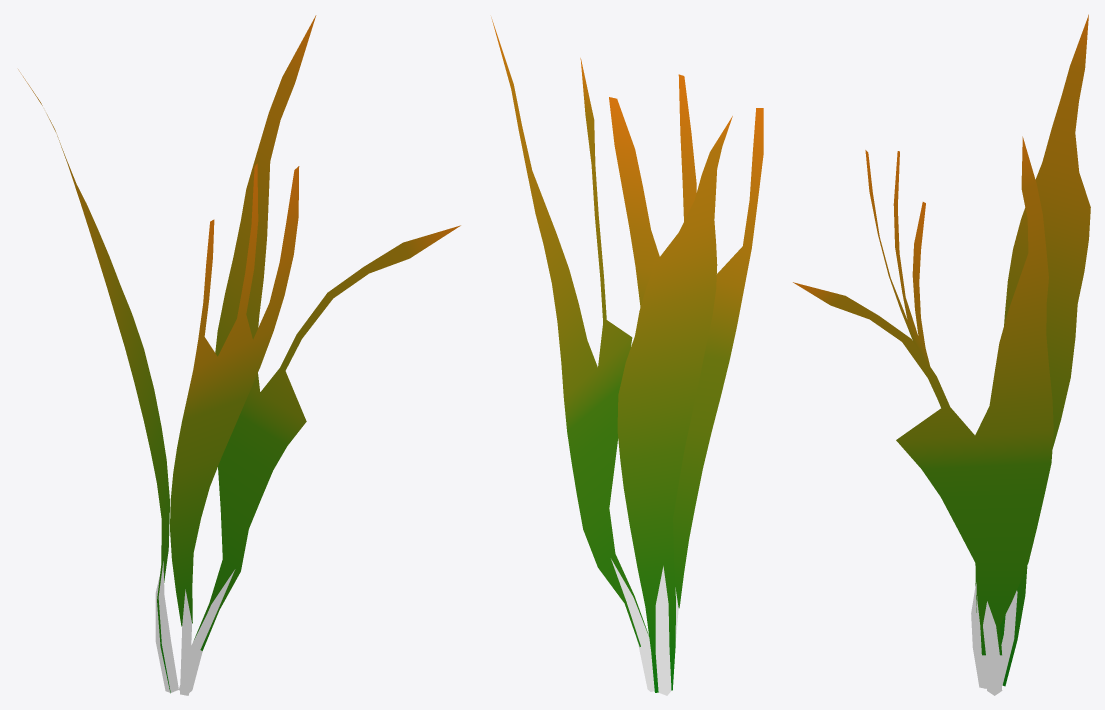
Rendered from sjglk_Var7_LOD0.fbx.
The picture shows the model from 3 angles, left to right: view 1: azimuth 30°, elevation 25°; view 2: azimuth 150°, elevation 25°; view 3: azimuth 270°, elevation 25°; orthographic projection. The views are drawn at different scales.
Visible parts, largest first — view 1: _800c_Var7_LOD0; view 2: _800c_Var7_LOD0; view 3: _800c_Var7_LOD0.
Part boxes in pixels (box(x1,y1,x2,y2)): _800c_Var7_LOD0: box(18, 15, 460, 695); _800c_Var7_LOD0: box(491, 17, 763, 695); _800c_Var7_LOD0: box(793, 14, 1090, 695).
Bounding box in the file's own units: 33.7 × 68.34 × 29.52.
